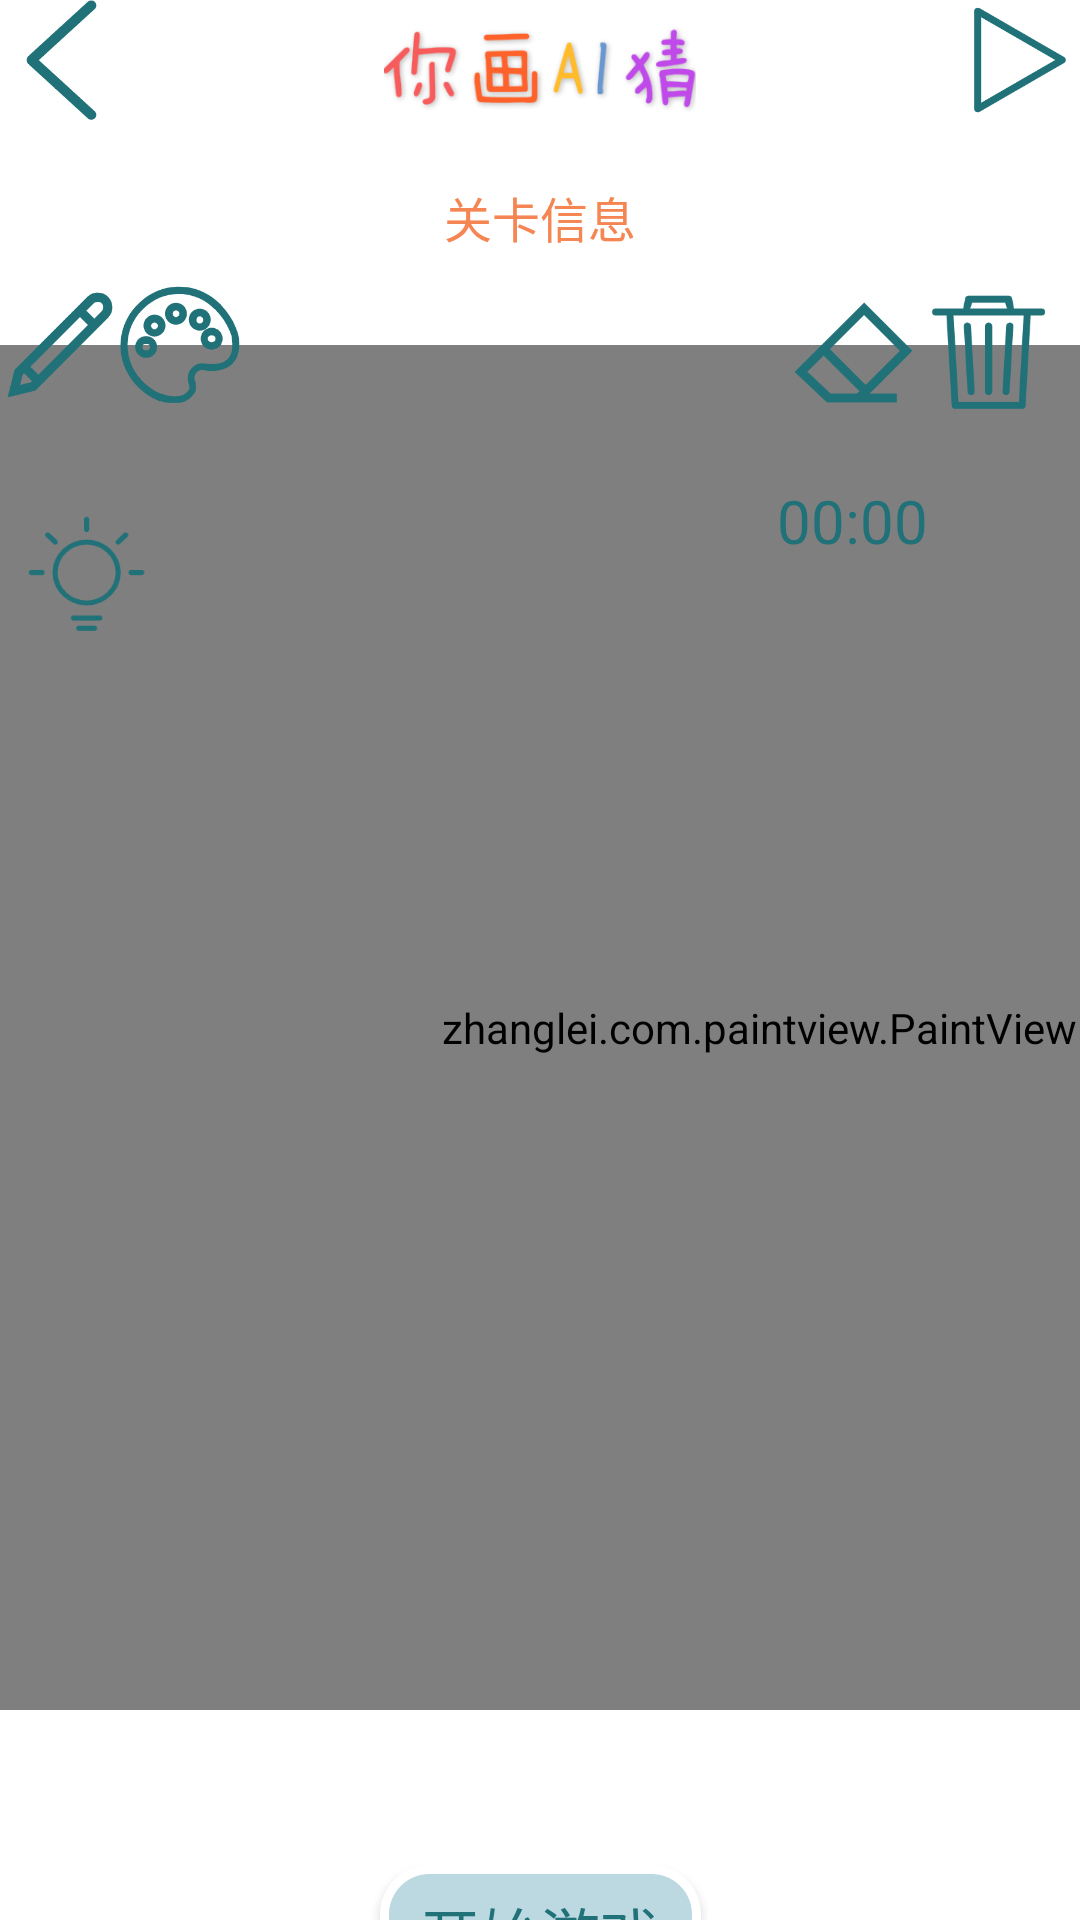

Icon click points for this 1080px x 1920px phone screenshot, format [x,y]:
hint: [87,574]
iconfontback: [61,60]
iconfontdel: [988,352]
